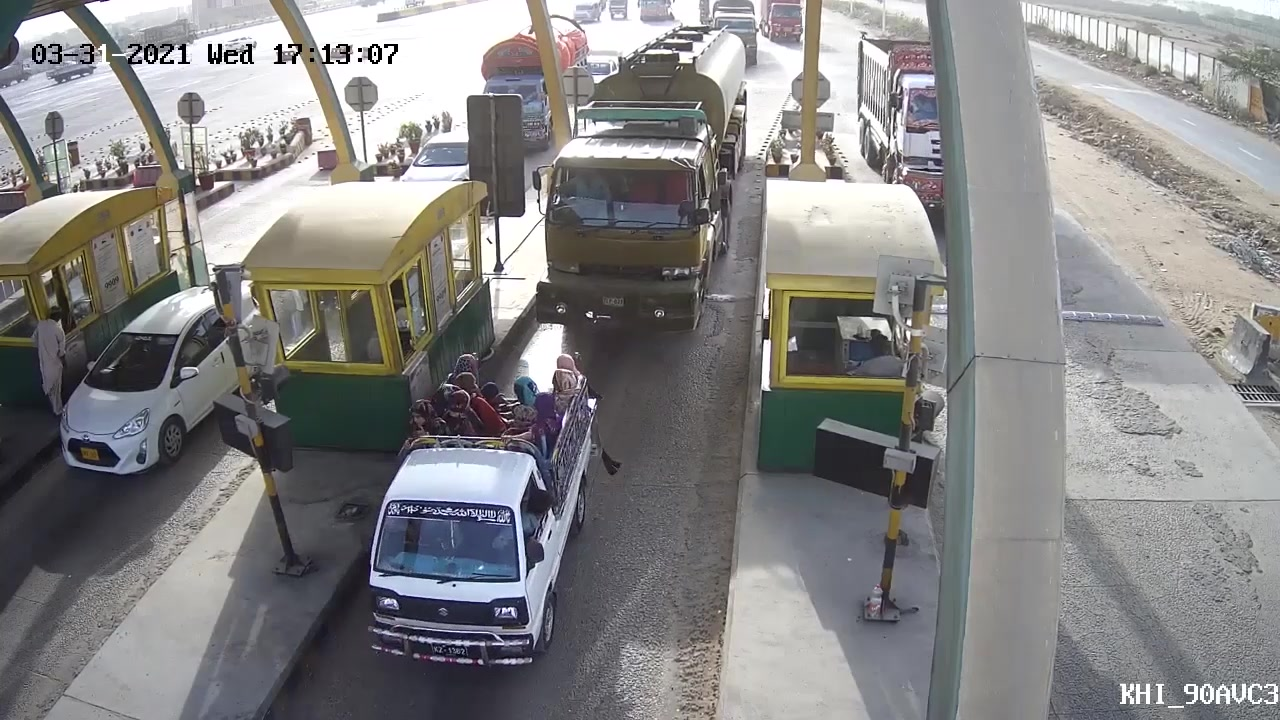F1: (347, 353, 601, 678)
F6: (536, 19, 755, 343)
